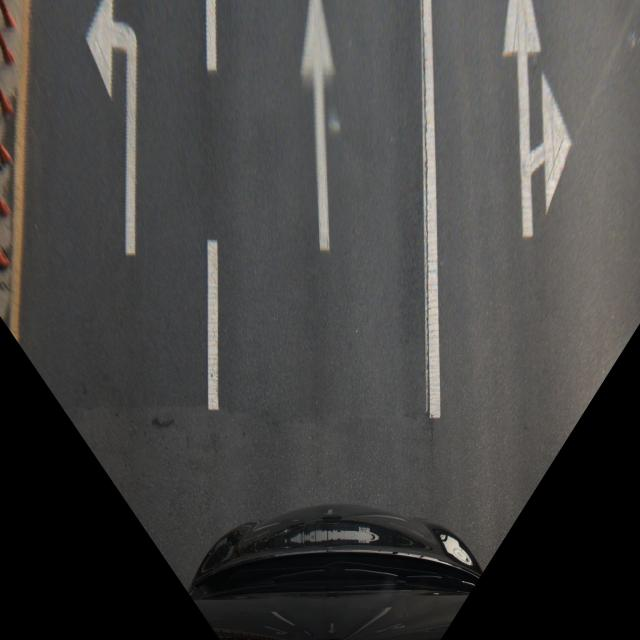left: (27, 0, 224, 347)
